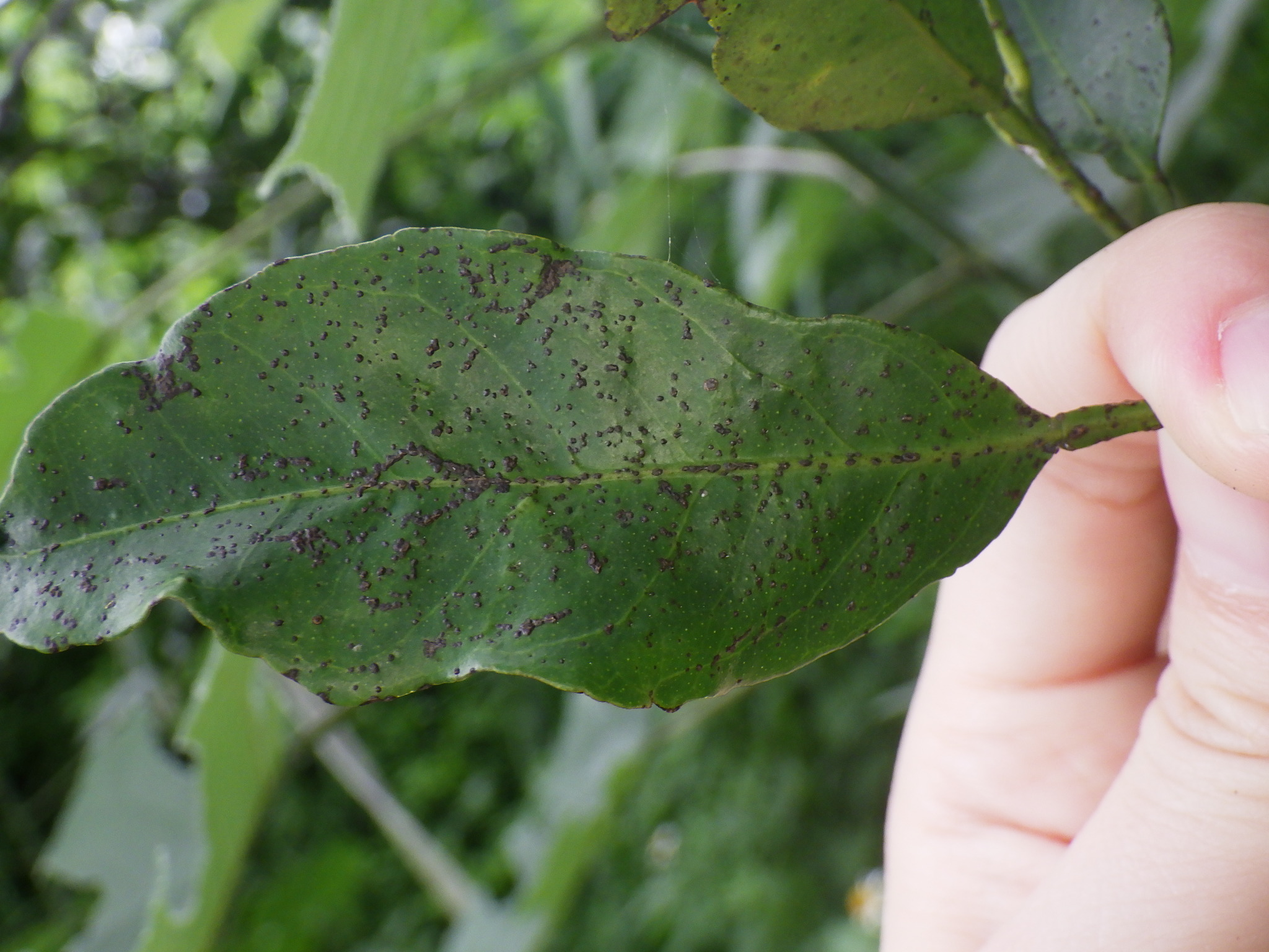Black_Spot: (0, 227, 1157, 708)
